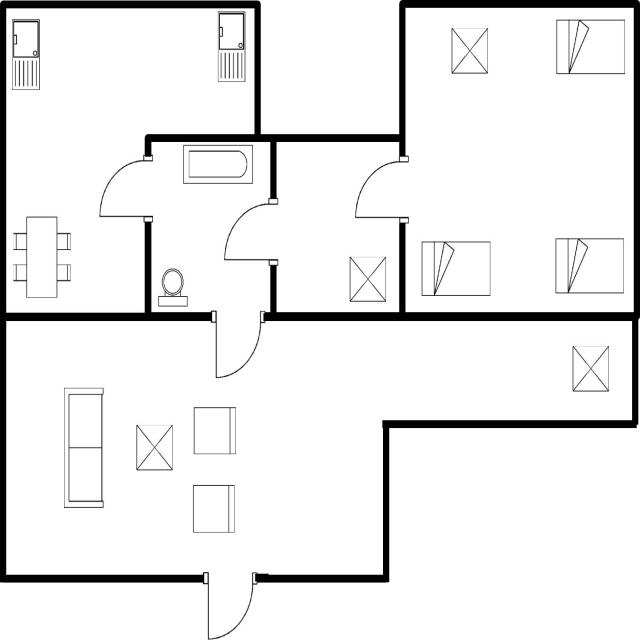bed: (552, 233, 629, 297), (417, 236, 495, 299), (553, 15, 628, 78)
coffee_table: (448, 24, 493, 79), (568, 341, 613, 396), (133, 420, 177, 476), (344, 250, 388, 306)
dining_table: (11, 211, 74, 302)
large_sink: (155, 264, 194, 310)
large_sofa: (61, 383, 107, 511)
sink: (8, 15, 43, 94), (216, 8, 245, 87)
small_sofa: (190, 402, 240, 458), (190, 480, 238, 536)
tub: (178, 142, 257, 188)
